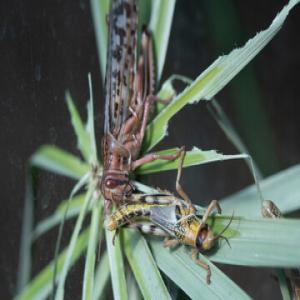locust: (101, 1, 159, 205), (98, 195, 229, 255)
